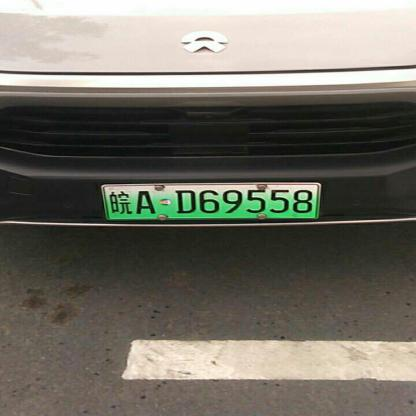lp: (102, 186, 320, 221)
